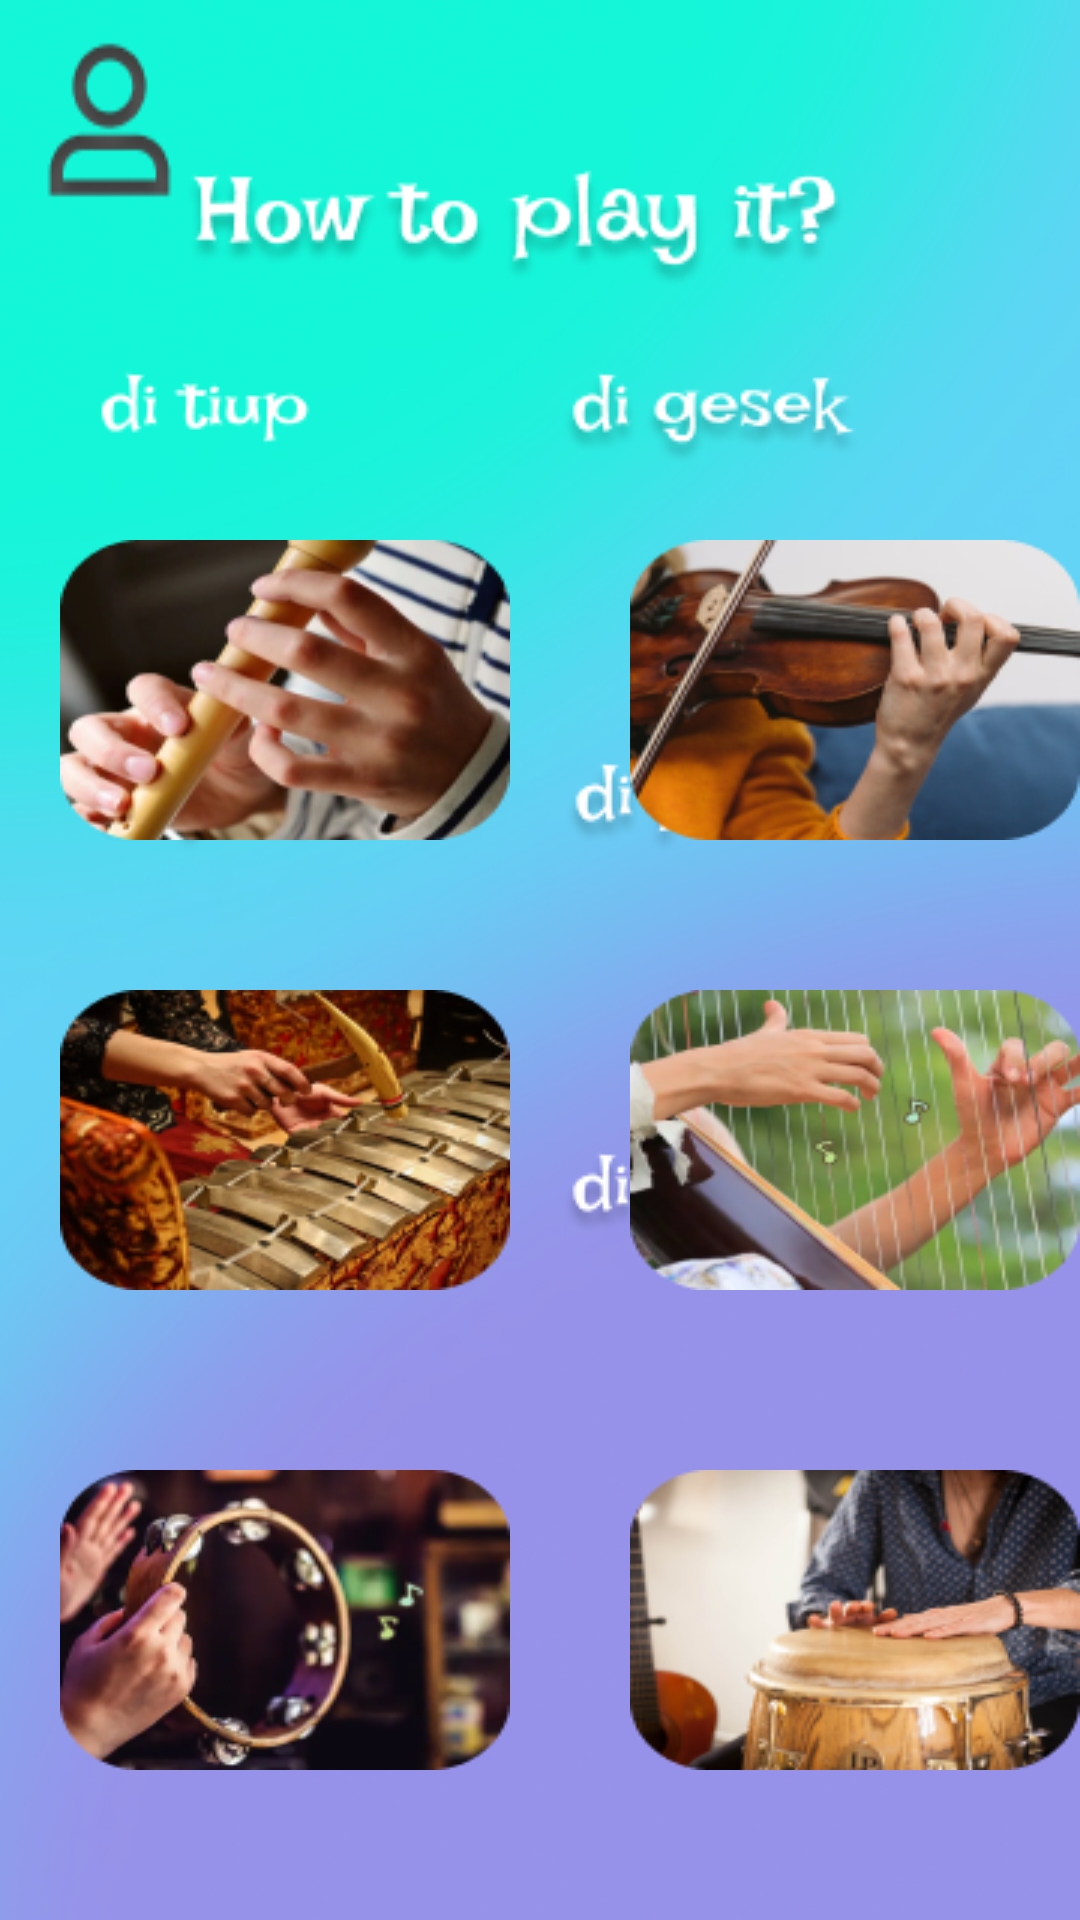

Icon click points for this 1080x1920 phone screenshot, format (x,y):
profile: (109,120)
